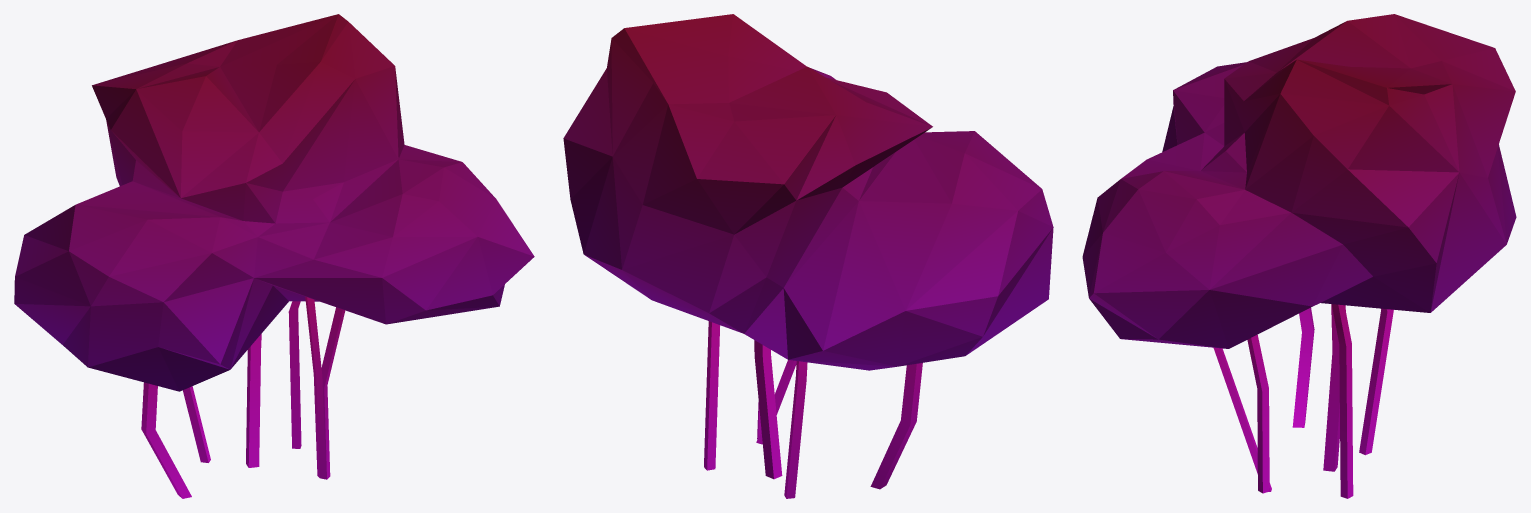
Rendered from synty-plant-bush-02.gltf.
3 views of the same model, side by side, from view 1: azimuth 30°, elevation 25°; view 2: azimuth 150°, elevation 25°; view 3: azimuth 270°, elevation 25° (orthographic). The views are drawn at different scales.
Visible parts, largest first — view 1: SM_Plant_Bush_02; view 2: SM_Plant_Bush_02; view 3: SM_Plant_Bush_02.
Boxes of the visible parts, x1,y1,x2,y2 form: SM_Plant_Bush_02: [14, 14, 534, 498]; SM_Plant_Bush_02: [563, 14, 1053, 498]; SM_Plant_Bush_02: [1082, 14, 1516, 498].
Size of the model in its own units: 2.09 by 2 by 1.79.
